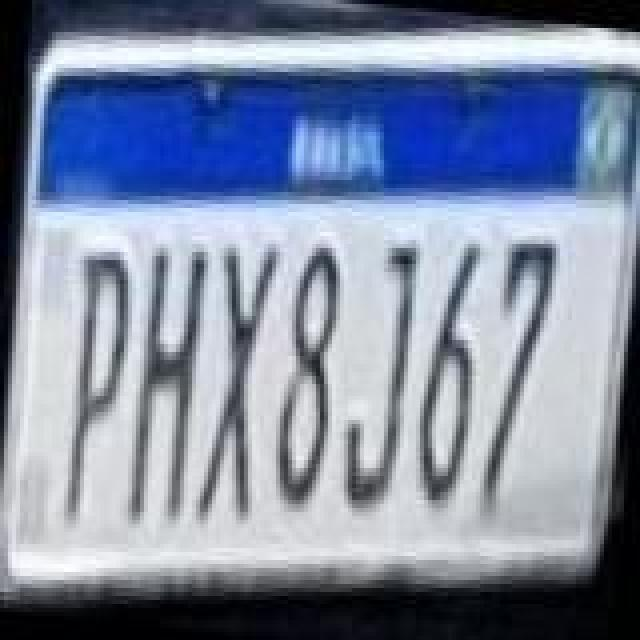6: (408, 240, 488, 512)
7: (478, 234, 562, 510)
8: (268, 238, 348, 514)
H: (124, 238, 212, 530)
J: (332, 232, 420, 520)
P: (54, 246, 138, 530)
X: (190, 236, 282, 532)
